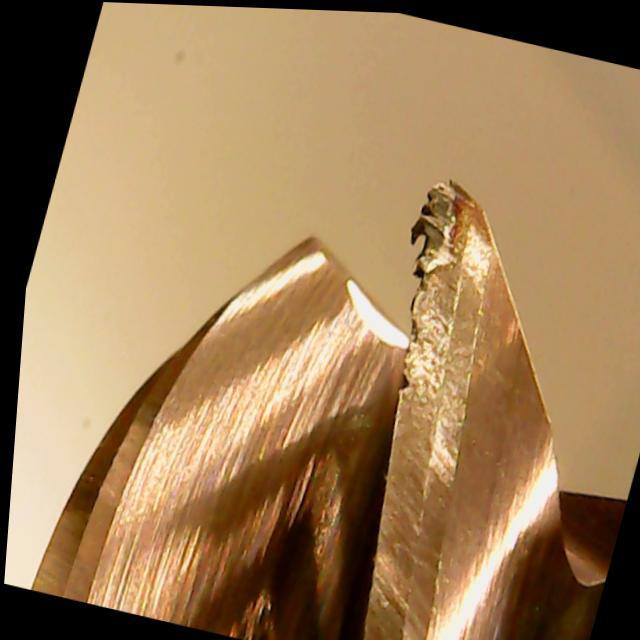Tool-wear-class-1: (346, 164, 519, 472)
